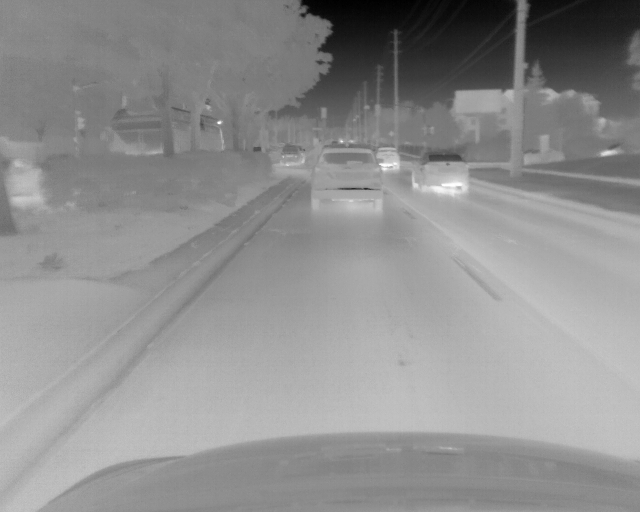car: (309, 145, 385, 212), (411, 152, 471, 194), (376, 145, 400, 168), (280, 143, 305, 165)
